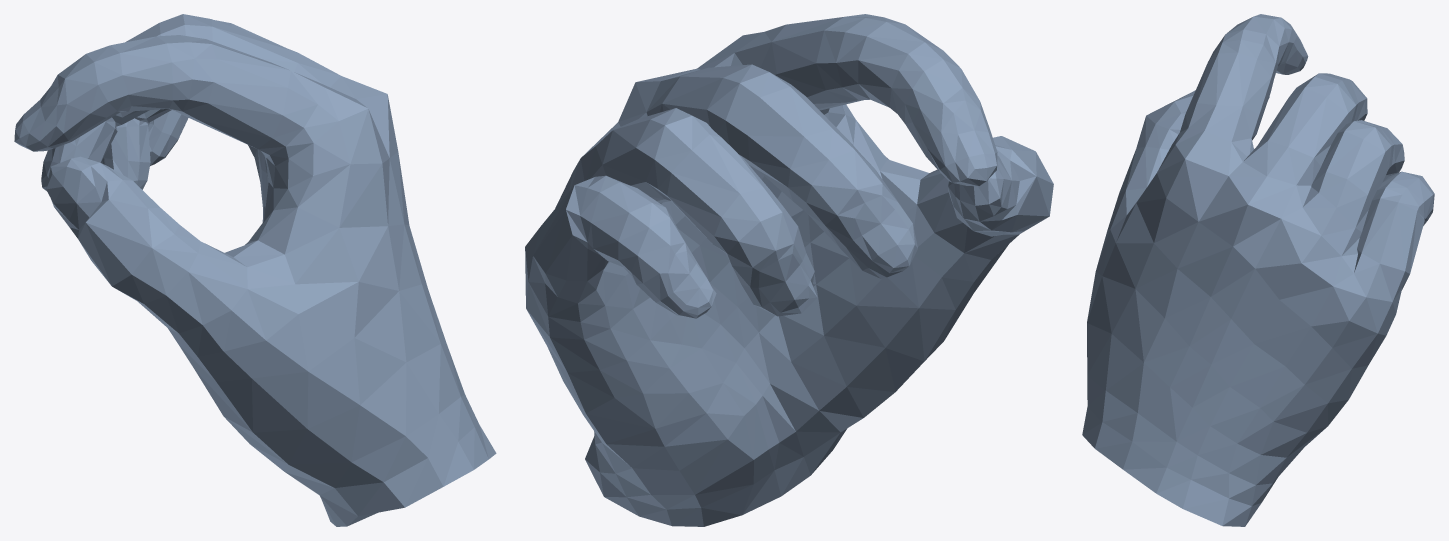
3 renders of one model, left to right at view 1: azimuth 30°, elevation 25°; view 2: azimuth 150°, elevation 25°; view 3: azimuth 270°, elevation 25°, orthographic. The views are drawn at different scales.
Bounding box in the file's own units: 0.1161 × 0.1353 × 0.1063.
